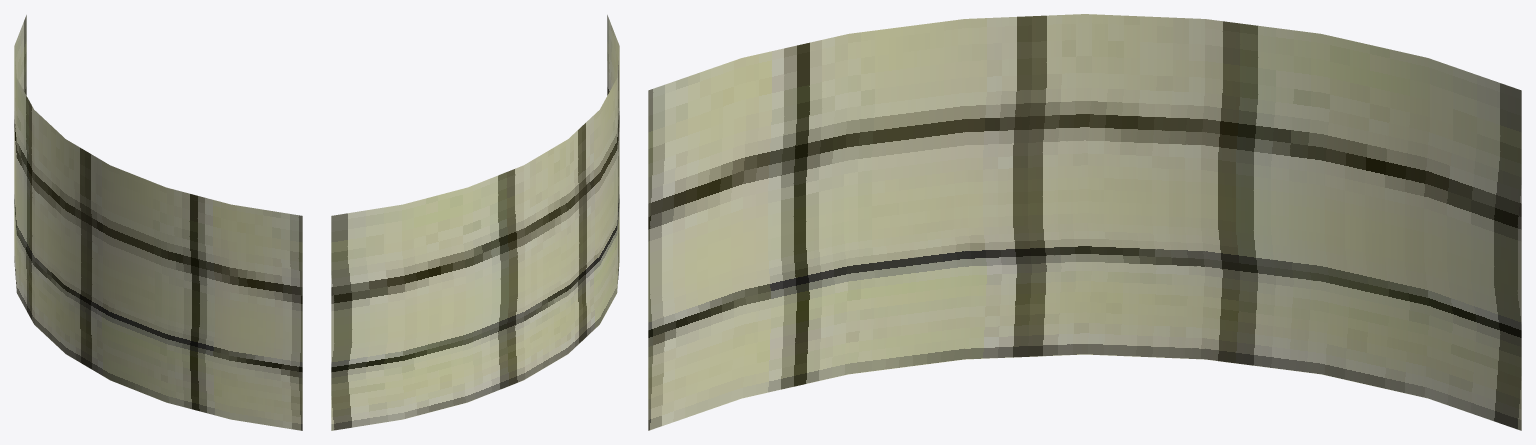
Rendered from mouth.dae.
The picture shows the model from 3 angles, left to right: view 1: azimuth 30°, elevation 25°; view 2: azimuth 150°, elevation 25°; view 3: azimuth 270°, elevation 25°; orthographic projection. The views are drawn at different scales.
Visible parts, largest first — view 1: base_head_001; view 2: base_head_001; view 3: base_head_001.
Part boxes in pixels (x1,y1,x2,y2): base_head_001: (14,15,302,430); base_head_001: (331,15,619,430); base_head_001: (648,14,1521,430).
Bounding box in the file's own units: 0.2033 × 0.9818 × 0.4224.
Materials: 1 (1 with a texture image).
